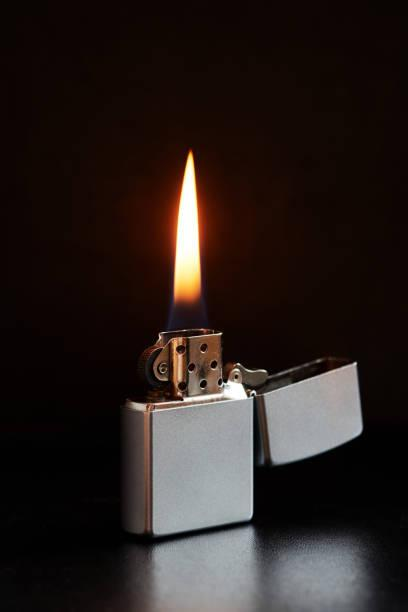Fire: (166, 145, 209, 302)
